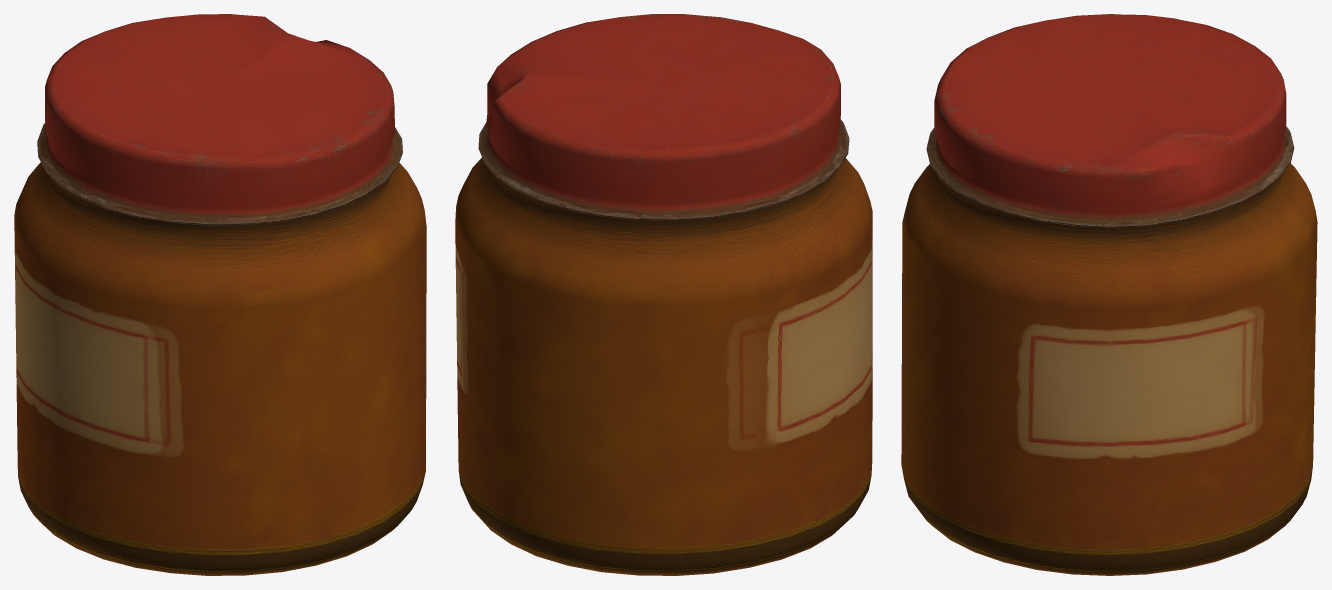
The model's file is seasoning-jar.glb.
The picture shows the model from 3 angles, left to right: view 1: azimuth 30°, elevation 25°; view 2: azimuth 150°, elevation 25°; view 3: azimuth 270°, elevation 25°; orthographic projection.
Visible parts, largest first — view 1: tripo_node_7c6308dd-edb3-4b64-a0d8-ce98d788ddfd; view 2: tripo_node_7c6308dd-edb3-4b64-a0d8-ce98d788ddfd; view 3: tripo_node_7c6308dd-edb3-4b64-a0d8-ce98d788ddfd.
Boxes of the visible parts, x1,y1,x2,y2 form: tripo_node_7c6308dd-edb3-4b64-a0d8-ce98d788ddfd: (14, 14, 426, 575); tripo_node_7c6308dd-edb3-4b64-a0d8-ce98d788ddfd: (455, 14, 872, 575); tripo_node_7c6308dd-edb3-4b64-a0d8-ce98d788ddfd: (901, 14, 1317, 575).
Size of the model in its own units: 0.9043 by 0.998 by 0.9121.
Materials: 1 (1 with a texture image).
